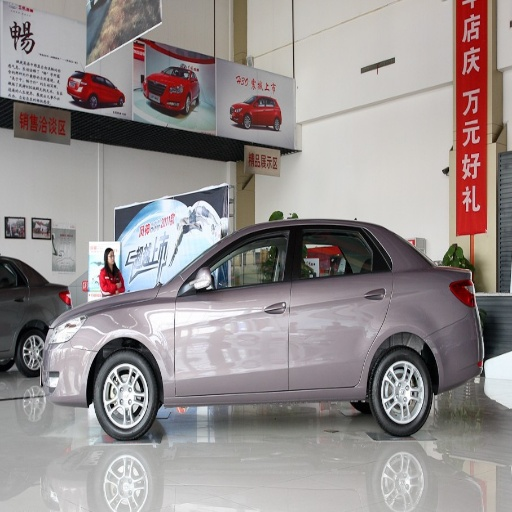back_left_door: (288, 224, 392, 388)
front_left_door: (175, 226, 296, 395)
